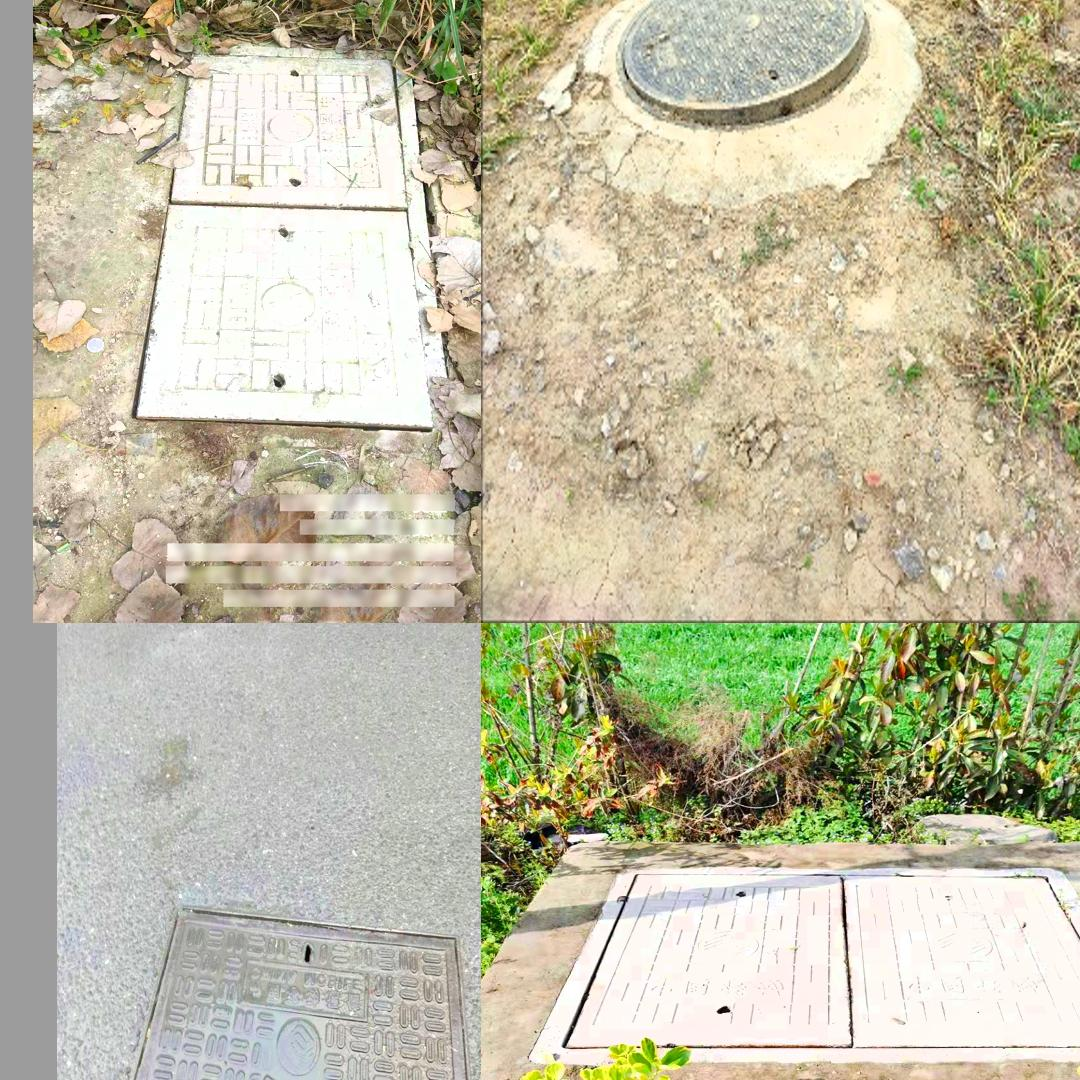good: (129, 46, 437, 427), (528, 868, 1080, 1062), (109, 899, 480, 1080), (612, 0, 867, 127)
